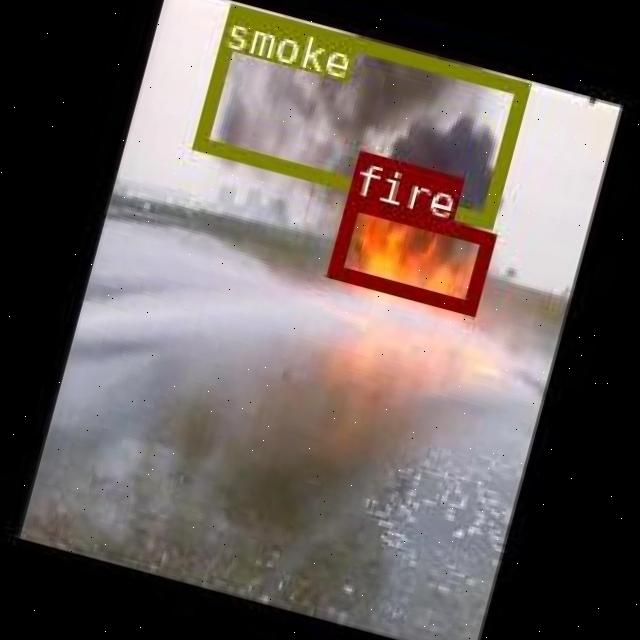fire: (324, 193, 493, 313)
smoke: (190, 2, 528, 226)
